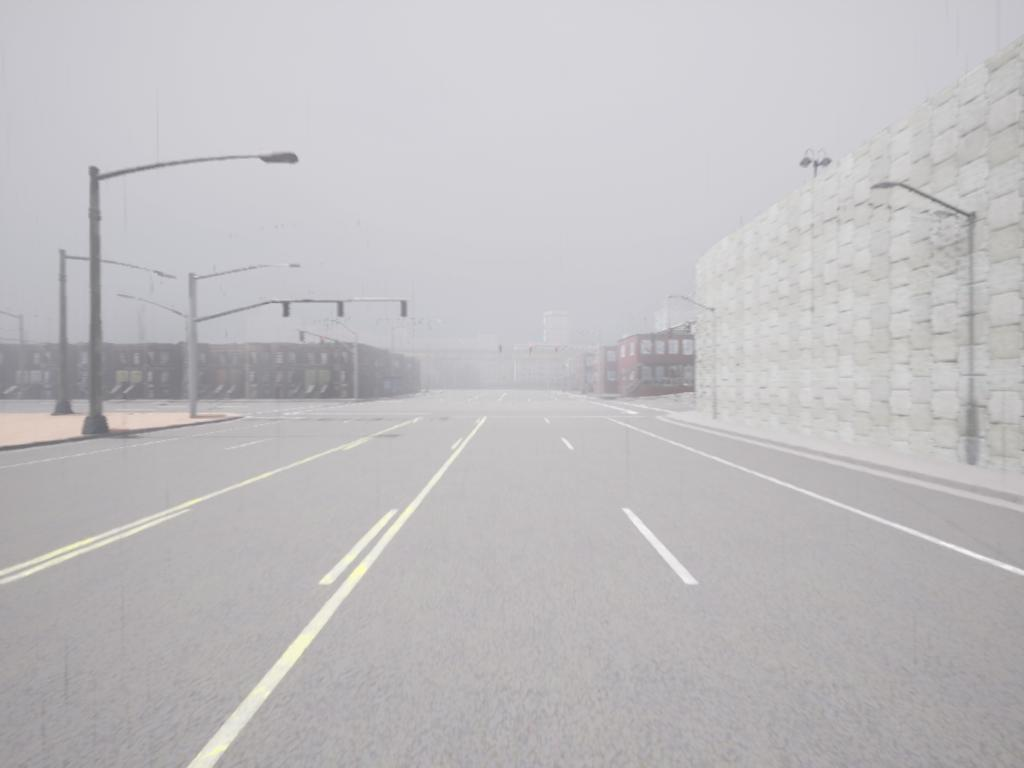traffic_light: (400, 301, 408, 319), (337, 302, 345, 319), (283, 301, 290, 319), (686, 322, 692, 336), (499, 346, 505, 355), (529, 347, 534, 356), (555, 347, 559, 355)
